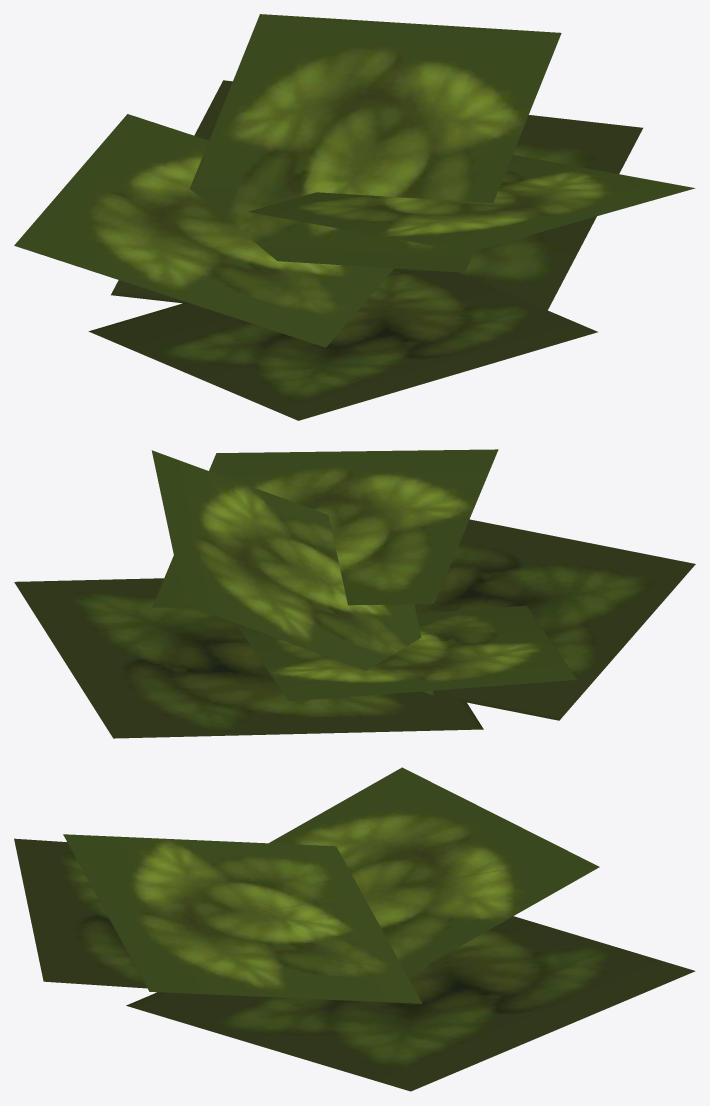
The model's file is dec_Short_Bush_07_12084.glb.
3 renders of one model, top to bottom at view 1: azimuth 30°, elevation 25°; view 2: azimuth 150°, elevation 25°; view 3: azimuth 270°, elevation 25°, orthographic. The views are drawn at different scales.
Parts seen in each view (by area): view 1: Short_Bush_07_mesh; view 2: Short_Bush_07_mesh; view 3: Short_Bush_07_mesh.
Part boxes in pixels (x1,y1,x2,y2): Short_Bush_07_mesh: (14,14,695,420); Short_Bush_07_mesh: (14,449,695,738); Short_Bush_07_mesh: (14,767,695,1091).
Size of the model in its own units: 0.8578 by 0.2437 by 0.8619.
Materials: 1 (1 with a texture image).
